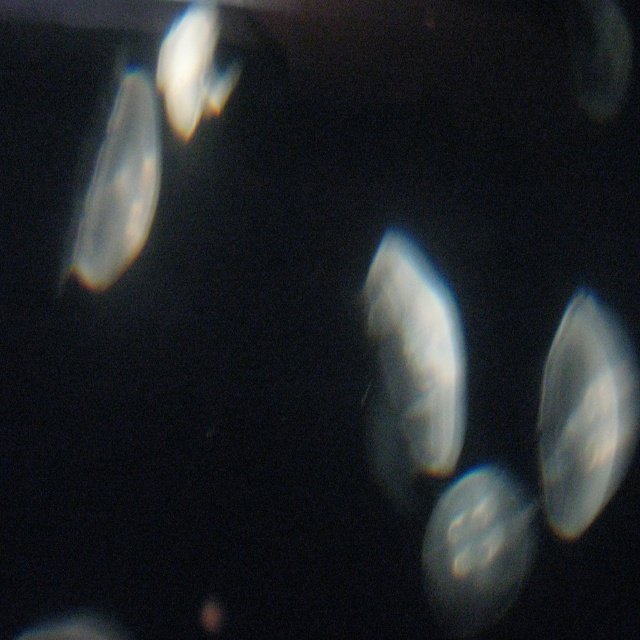Jellyfish: (362, 222, 471, 487), (538, 293, 640, 545), (67, 66, 165, 298), (420, 465, 530, 624), (154, 0, 246, 143)
